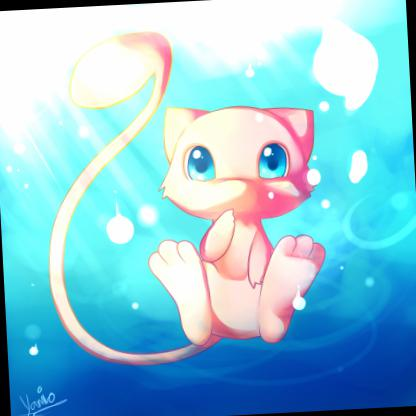Mew: (1, 1, 416, 401)
